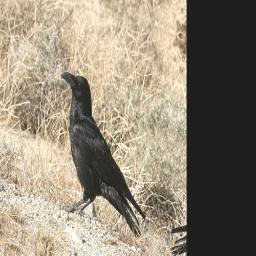Crow: (42, 65, 162, 249)
